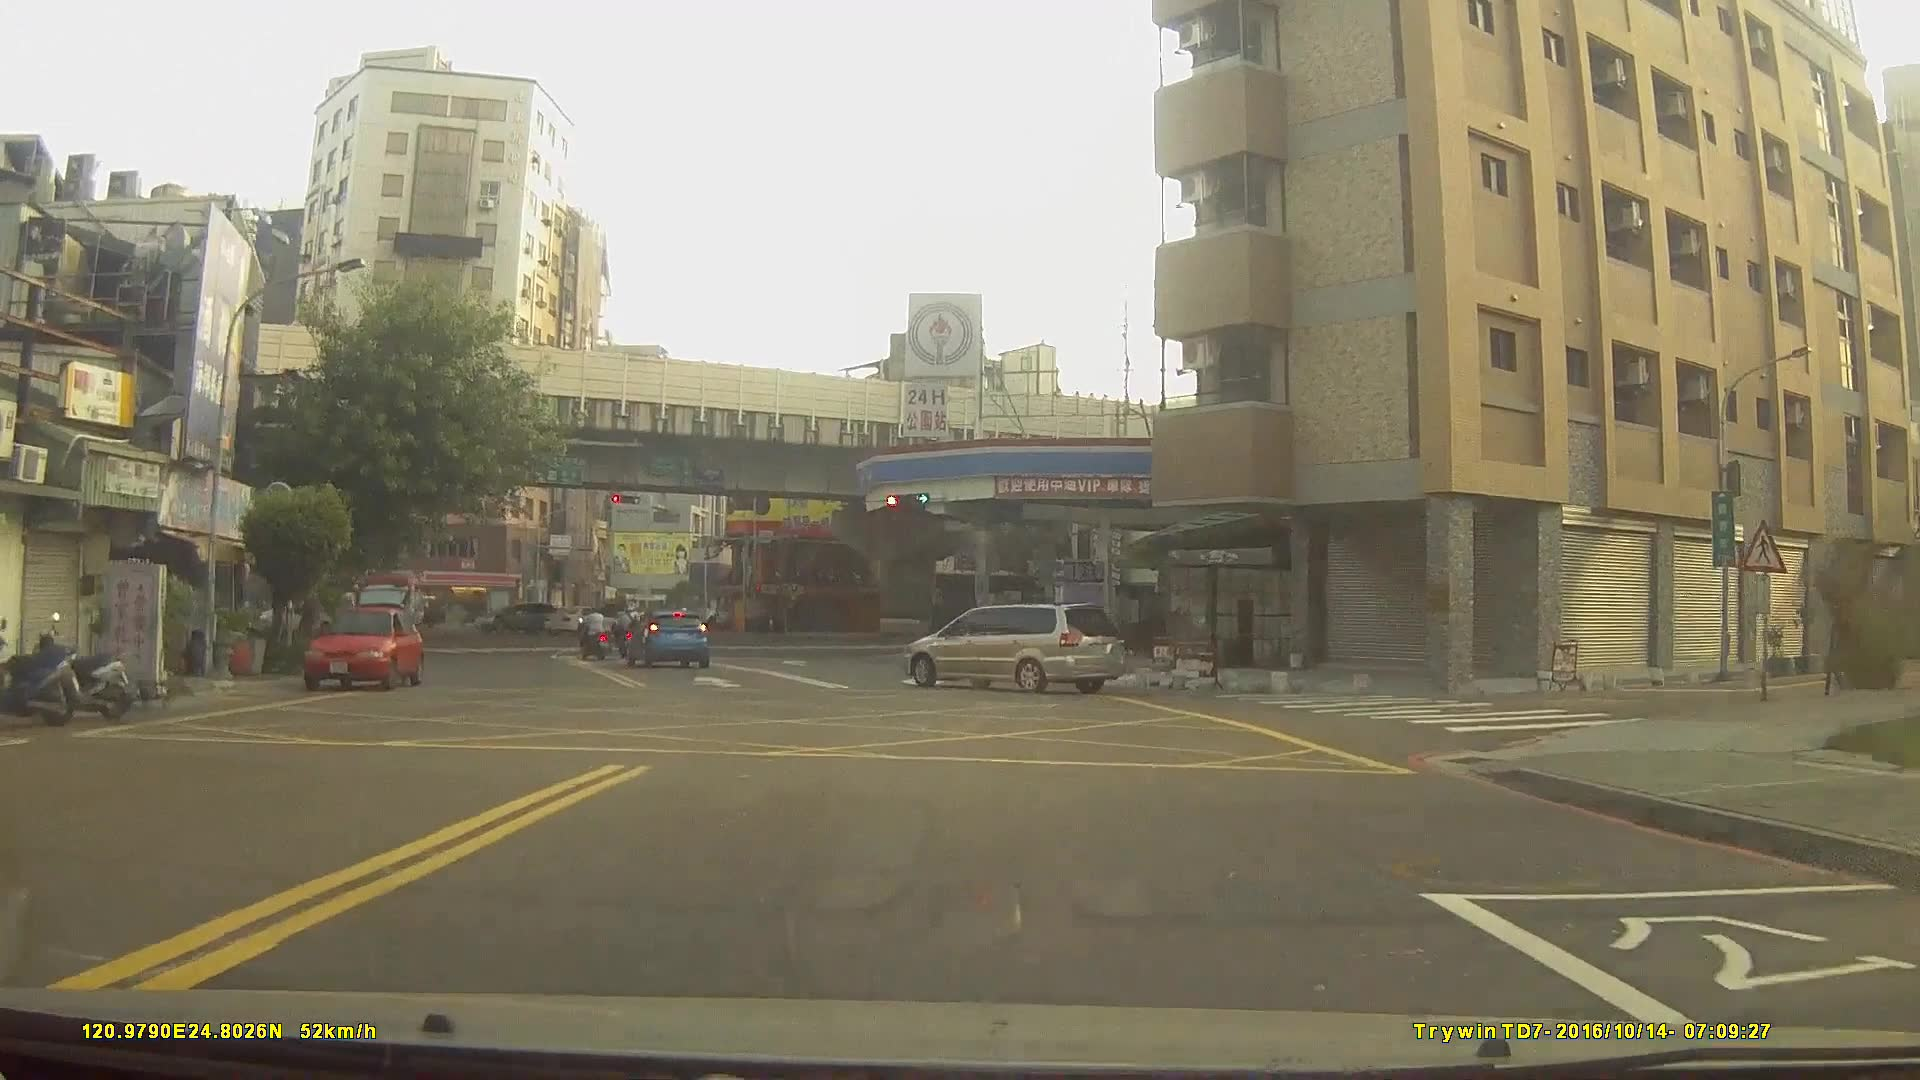rider: (579, 607, 611, 664)
vehicle: (902, 601, 1124, 693), (300, 603, 425, 691), (619, 609, 710, 670), (472, 601, 557, 635), (543, 604, 621, 635)
